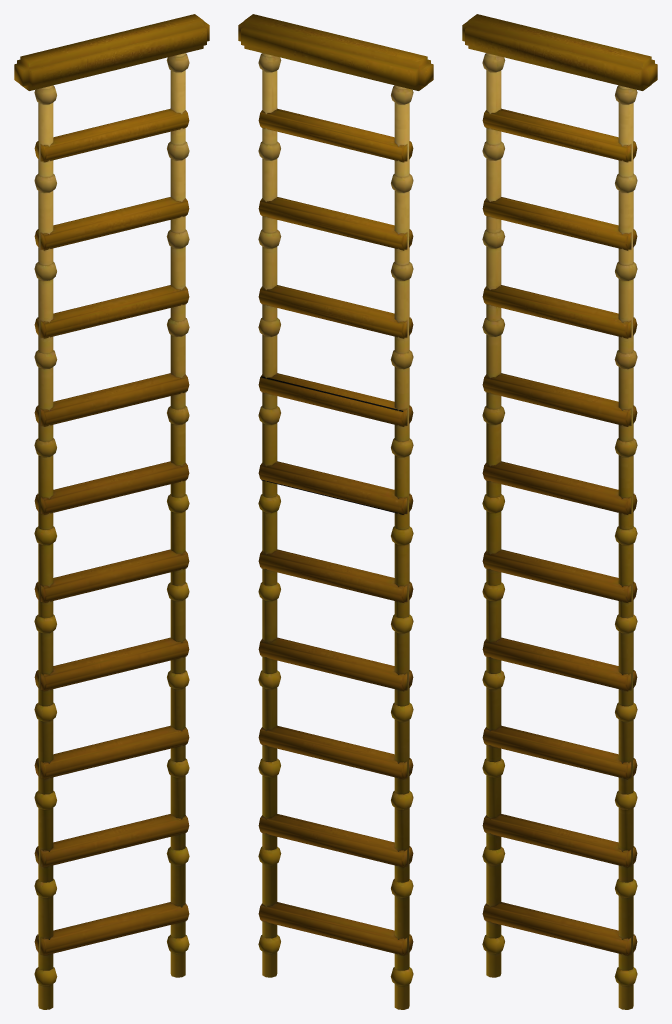
File: RopeLadder.glb
The picture shows the model from 3 angles, left to right: view 1: azimuth 30°, elevation 25°; view 2: azimuth 150°, elevation 25°; view 3: azimuth 330°, elevation 25°; orthographic projection.
Visible parts, largest first — view 1: RopeLadder; view 2: RopeLadder; view 3: RopeLadder.
Part boxes in pixels (<box>): RopeLadder: <box>14,14,209,1009</box>; RopeLadder: <box>238,14,433,1009</box>; RopeLadder: <box>462,14,657,1009</box>.
Size of the model in its own units: 0.62 by 3.03 by 0.09.
1 material, 1 textured.
